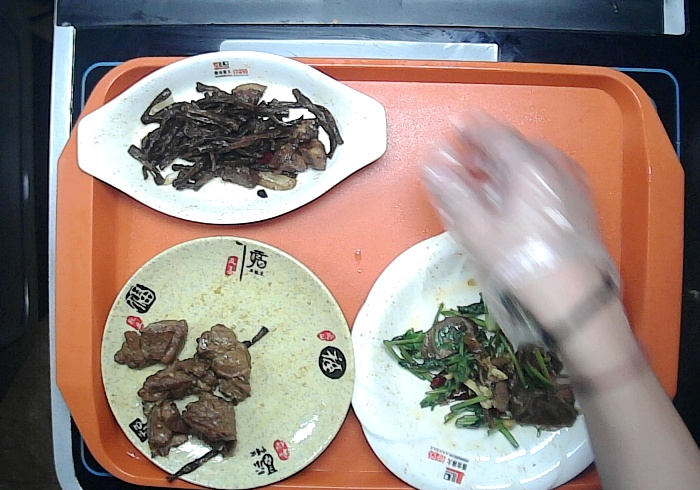NLDX-Bai_Zhe_Yuan_Pan: (347, 220, 630, 490)
NLDX-Fu_Zi_Yuan_Pan: (96, 232, 357, 485)
NLDX-Yu_Pan: (80, 47, 393, 234)
